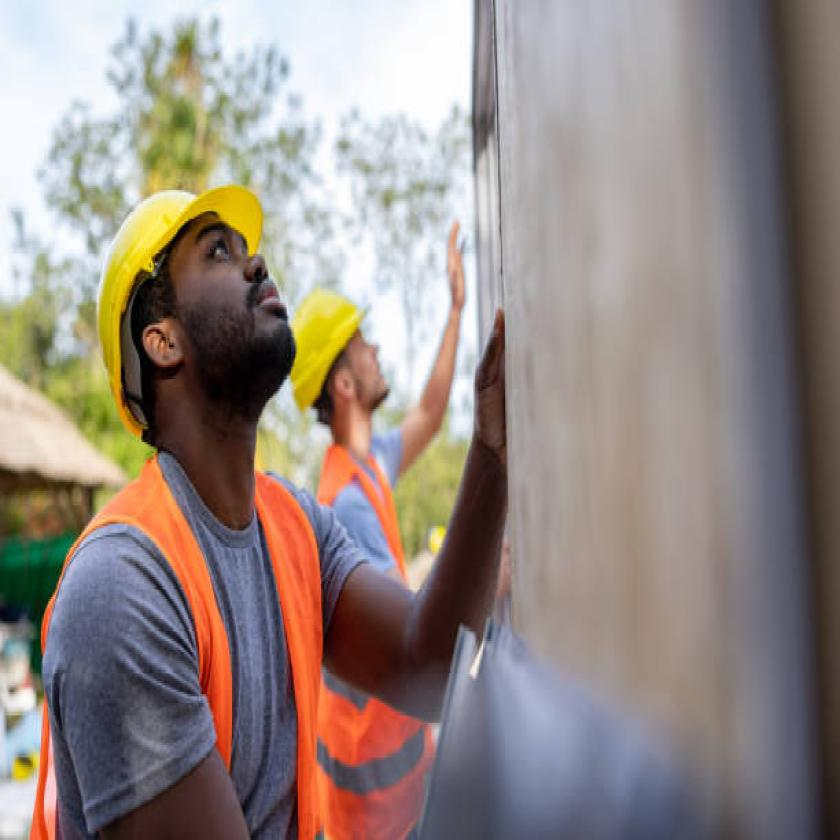Con_casco: (79, 181, 310, 501), (282, 280, 395, 439)
